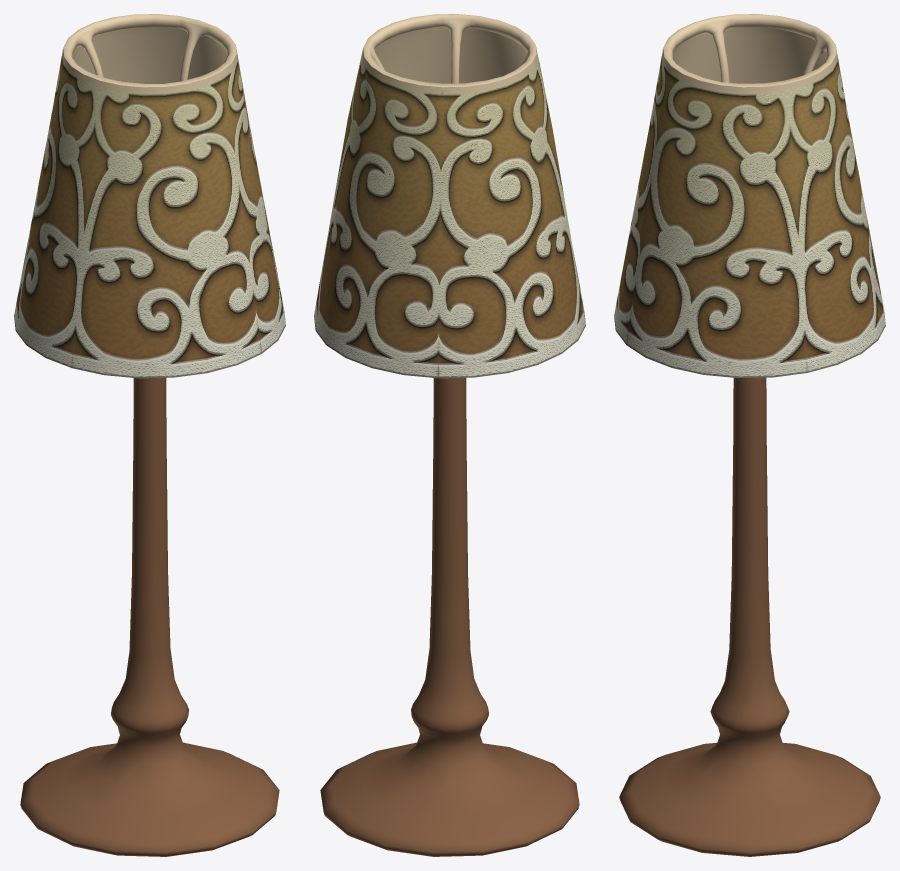
Rendered from CI_029_tall_lamp.glb.
3 renders of one model, left to right at view 1: azimuth 30°, elevation 25°; view 2: azimuth 150°, elevation 25°; view 3: azimuth 270°, elevation 25°, orthographic.
Parts seen in each view (by area): view 1: Lamp, Foot; view 2: Lamp, Foot; view 3: Lamp, Foot.
Boxes of the visible parts, box(x1,y1,x2,y2) form: Lamp: box(14, 14, 285, 378); Foot: box(20, 378, 279, 856); Lamp: box(314, 14, 585, 378); Foot: box(320, 378, 579, 856); Lamp: box(614, 14, 885, 377); Foot: box(619, 377, 880, 856).
Size of the model in its own units: 0.7307 by 2.25 by 0.7307.
Materials: 3 (1 with a texture image).
